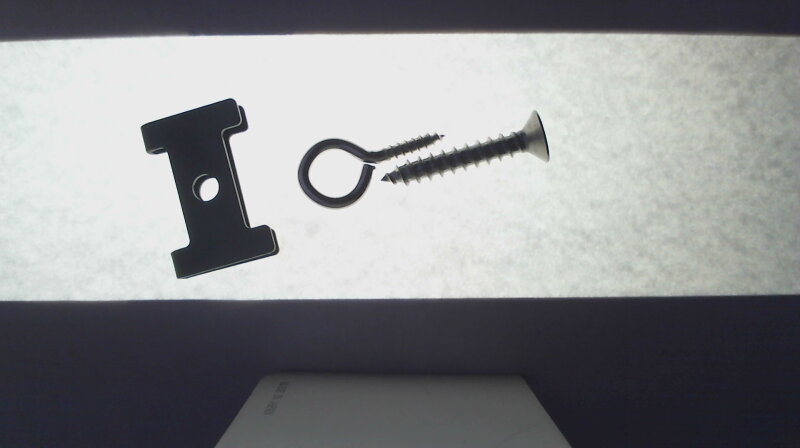O001: (295, 132, 448, 210)
O002: (138, 97, 279, 278)
S001: (378, 110, 550, 183)
